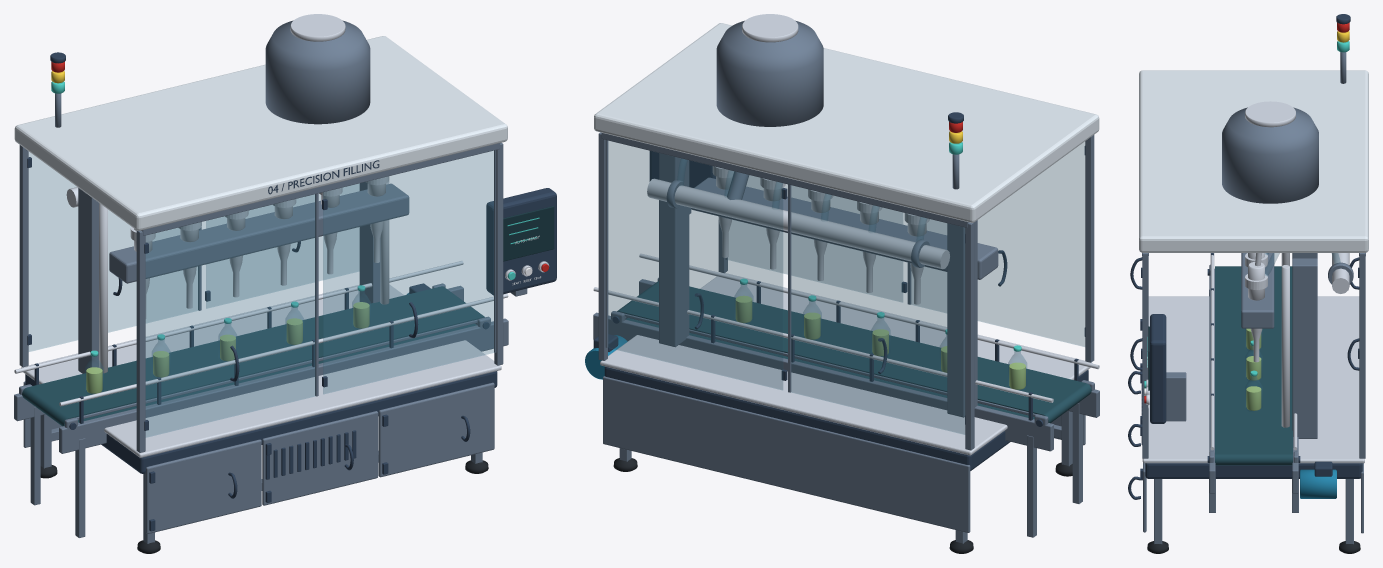
The model's file is filler.glb.
3 views of the same model, side by side, from view 1: azimuth 30°, elevation 25°; view 2: azimuth 150°, elevation 25°; view 3: azimuth 270°, elevation 25° (orthographic). The views are drawn at different scales.
Visible parts, largest first — view 1: Crown fascia.002, Polycarbonate safety door.009, Polycarbonate safety door.008, Filler top, Continuous hygienic PU belt.014, Polycarbonate safety door.010, Nozzle carrier, Buffer tank, Filler access door.002, Filler access door, Filler access door.001, Folded side channel.006 (+20 smaller); view 2: Crown fascia.002, Polycarbonate safety door.011, Polycarbonate safety door.010, Filler rear, Filler top, Polycarbonate safety door.008, Continuous hygienic PU belt.014, Buffer tank, Polycarbonate safety door.009, Folded side channel.007, Product manifold, Precision axis column.001 (+19 smaller); view 3: Crown fascia.002, Filler top, Continuous hygienic PU belt.014, Buffer tank, Precision axis column.001, Filler chassis, Filler HMI controller, Nozzle carrier, Linear bearing shaft.001, Guard extrusion.011, Guard extrusion.010, Tank access cap (+12 smaller).
Part boxes in pixels (x1,y1,x2,y2): Crown fascia.002: [14, 36, 507, 230]; Polycarbonate safety door.009: [323, 151, 494, 393]; Polycarbonate safety door.008: [146, 194, 315, 437]; Filler top: [21, 284, 501, 457]; Continuous hygienic PU belt.014: [22, 286, 484, 426]; Polycarbonate safety door.010: [29, 152, 198, 351]; Nozzle carrier: [109, 183, 409, 283]; Buffer tank: [265, 20, 370, 124]; Filler access door.002: [378, 382, 494, 477]; Filler access door: [145, 439, 261, 533]; Filler access door.001: [262, 411, 378, 505]; Folded side channel.006: [59, 318, 508, 453]; Crown fascia.002: [594, 23, 1099, 222]; Polycarbonate safety door.011: [608, 141, 782, 389]; Polycarbonate safety door.010: [791, 185, 964, 434]; Filler rear: [603, 376, 970, 532]; Filler top: [600, 273, 1092, 455]; Polycarbonate safety door.008: [911, 142, 1084, 346]; Continuous hygienic PU belt.014: [617, 281, 1091, 423]; Buffer tank: [716, 20, 823, 126]; Polycarbonate safety door.009: [728, 176, 902, 301]; Folded side channel.007: [593, 312, 1053, 451]; Product manifold: [647, 178, 949, 268]; Precision axis column.001: [659, 153, 689, 346]; Crown fascia.002: [1139, 70, 1368, 252]; Filler top: [1142, 296, 1364, 463]; Continuous hygienic PU belt.014: [1215, 266, 1292, 465]; Buffer tank: [1222, 107, 1318, 203]; Precision axis column.001: [1292, 258, 1317, 438]; Filler chassis: [1145, 463, 1362, 478]; Filler HMI controller: [1150, 314, 1166, 423]; Nozzle carrier: [1241, 253, 1274, 328]; Linear bearing shaft.001: [1281, 265, 1289, 427]; Guard extrusion.011: [1359, 253, 1365, 458]; Guard extrusion.010: [1142, 253, 1148, 458]; Tank access cap: [1245, 101, 1295, 127].
Bounding box in the file's own units: 3.9 × 3.4 × 1.89.
